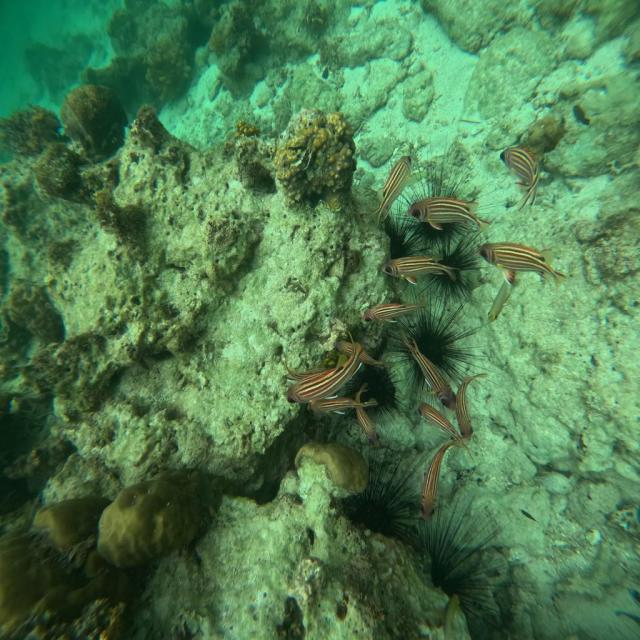Asker Baligi: (282, 343, 363, 412), (475, 237, 558, 289), (345, 290, 433, 336), (408, 192, 479, 243), (489, 132, 540, 202), (416, 434, 449, 523), (372, 260, 459, 293), (416, 348, 458, 408), (380, 163, 414, 217)
